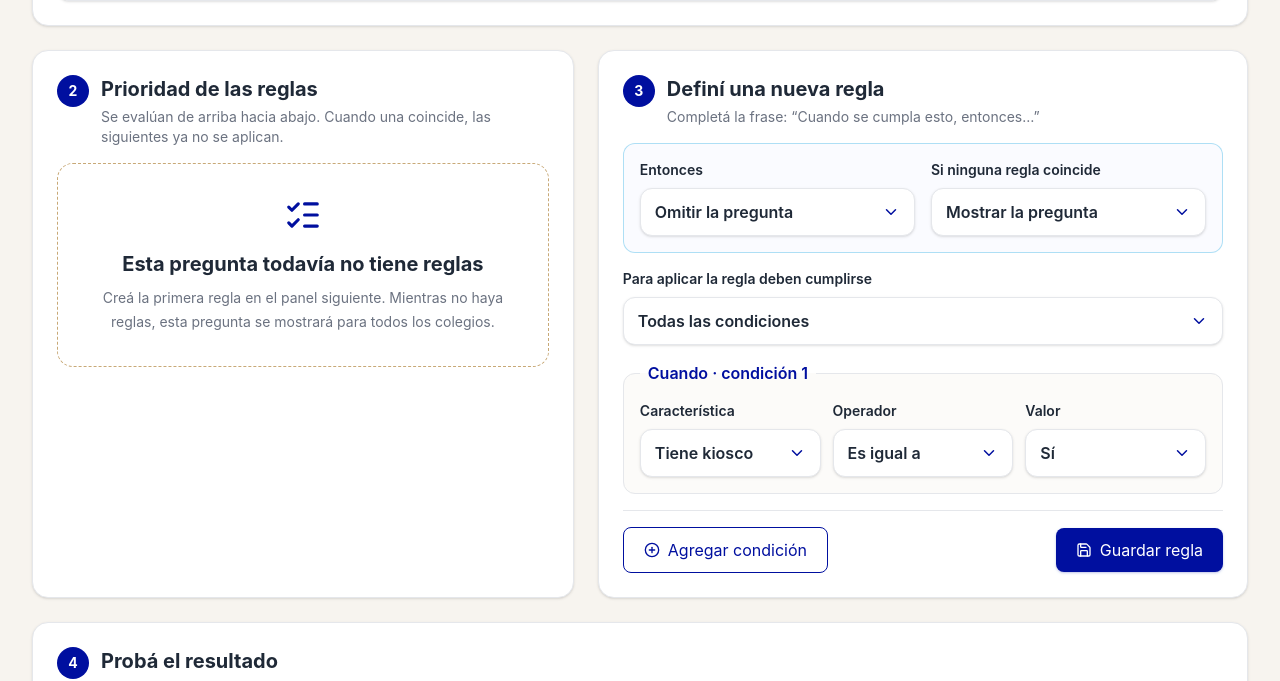
Test: SurveyApplicabilityRulesPage › usa desplegables institucionales en toda la nueva regla
The image size is (1280, 681).
(page scrolled)
Check: the button named "Entonces" reads "Omitir la pregunta", box [640, 188, 915, 236]
Check: the button named "Característica" reads "Tiene kiosco", box [640, 429, 820, 477]
Step 1. Click the button named "Para aplicar la regla deben cumplirse" → (724, 321), box [623, 297, 1223, 345]
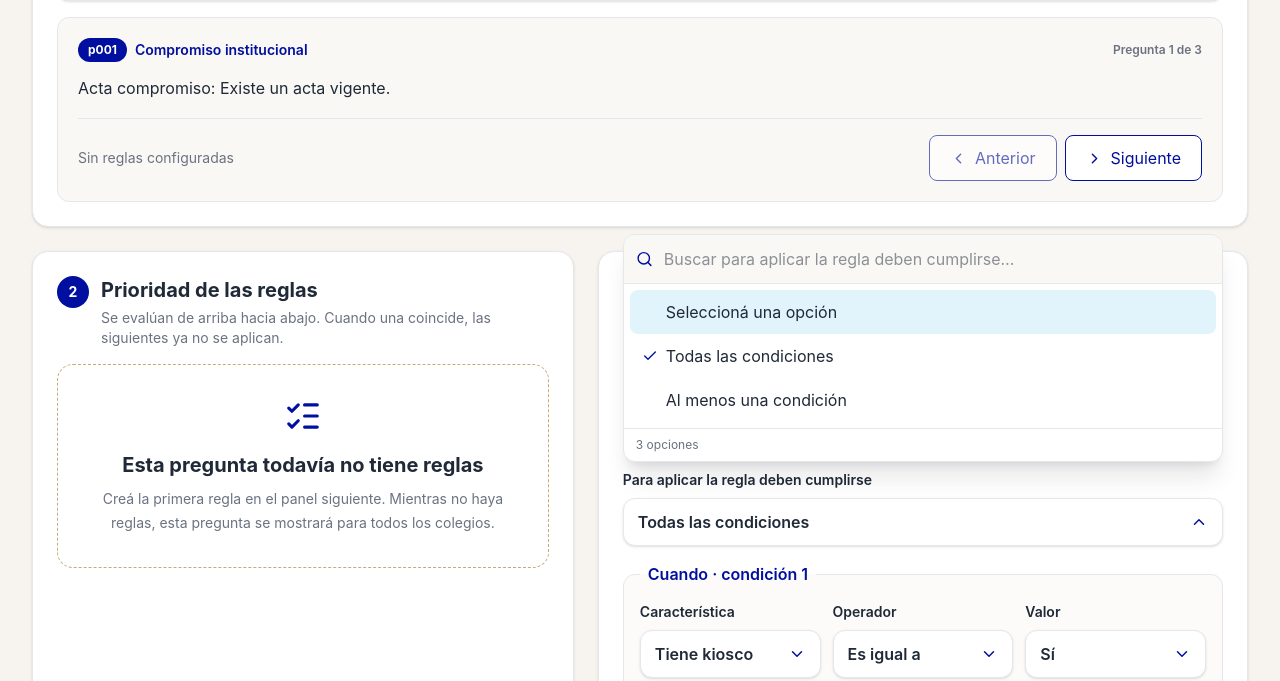
Step 2. Click the option "Al menos una condición" → (756, 400), box [630, 378, 1216, 422]
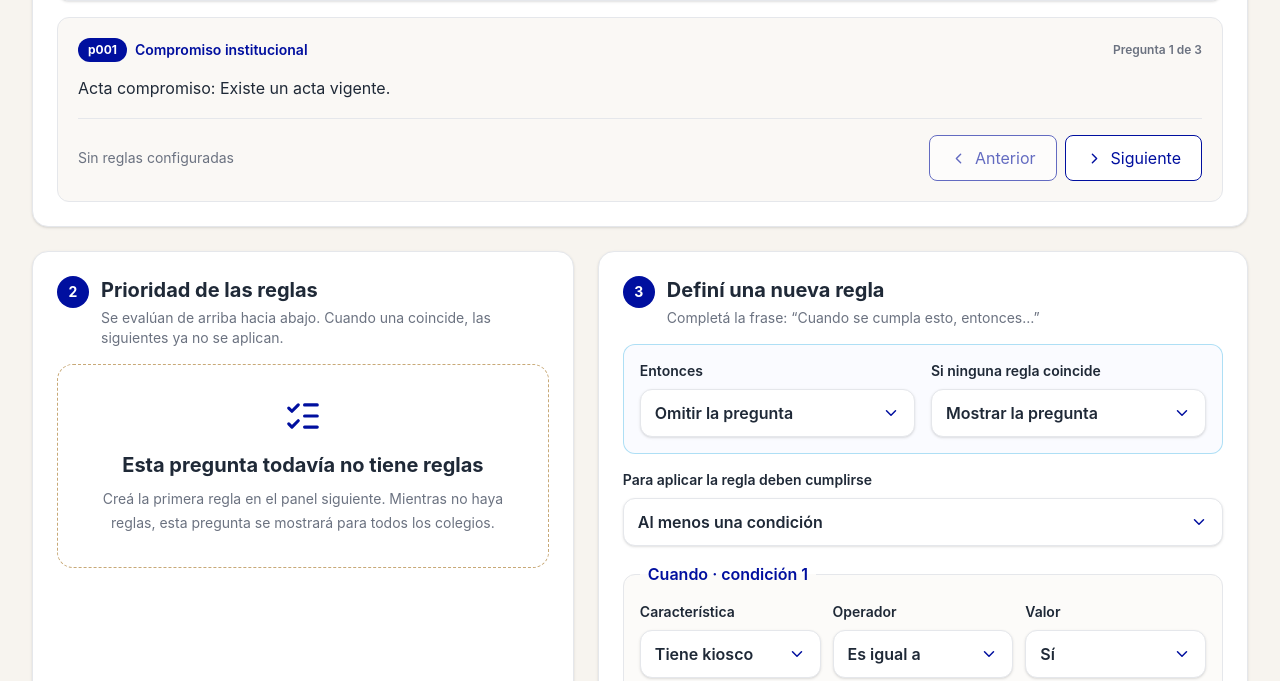
Check: the button named "Para aplicar la regla deben cumplirse" reads "Al menos una condición", box [623, 498, 1223, 546]
